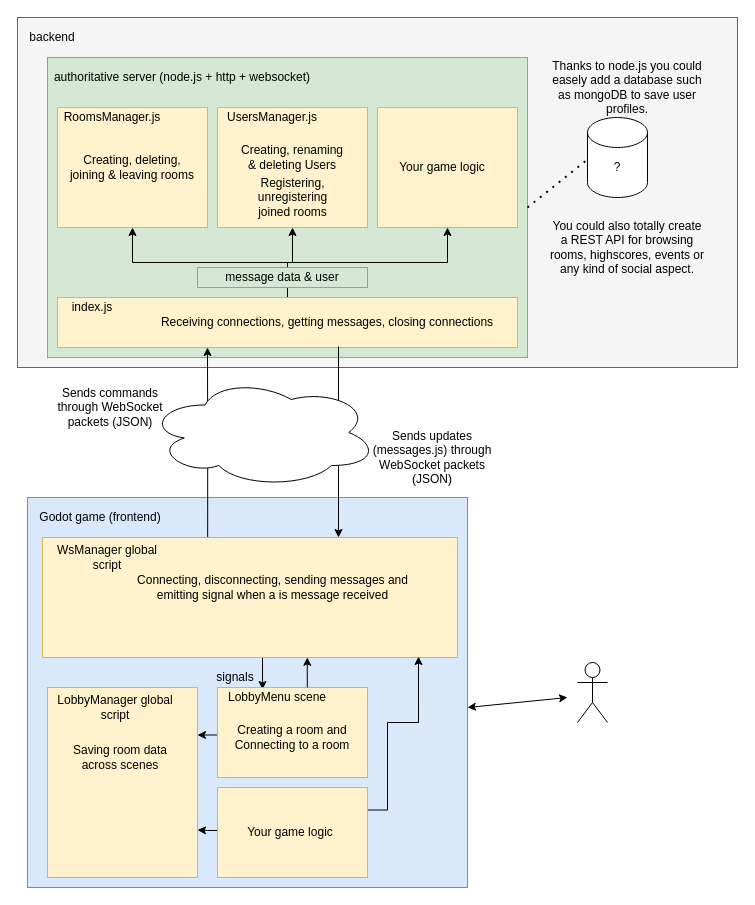
Image size: 755x905. Some labels were removed from this diagram. The centre of each missing label's shape, as x and y in pixels:
"Internet or local network" belongs at (262,432).
"Player" belongs at (592,692).
